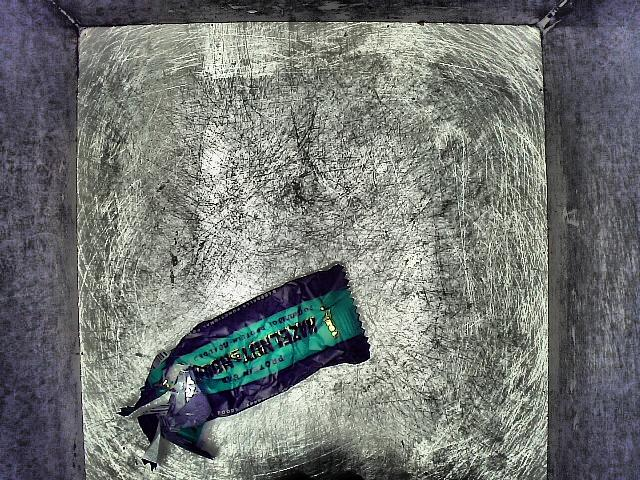Plastic: (85, 257, 426, 472)
